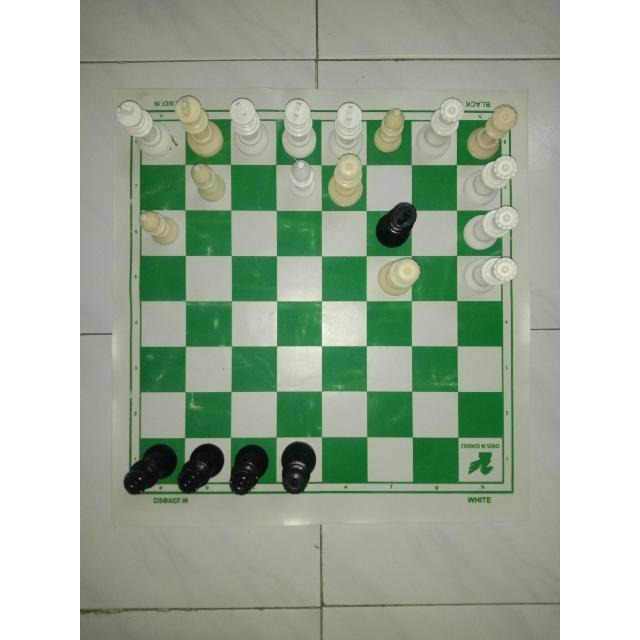black-king: (371, 201, 419, 253)
black-queen: (117, 438, 180, 496), (175, 439, 226, 495), (226, 442, 273, 500), (276, 439, 320, 500)
white-bishop: (135, 204, 183, 253), (371, 104, 407, 161), (187, 158, 230, 203), (284, 158, 320, 202)
white-king: (112, 97, 175, 159), (173, 94, 226, 159), (278, 95, 324, 161), (226, 95, 272, 159), (325, 100, 369, 163)
white-queen: (415, 96, 466, 167), (464, 101, 520, 161), (462, 154, 520, 210), (459, 201, 520, 251), (460, 252, 520, 302), (326, 150, 366, 210), (372, 254, 424, 298)
